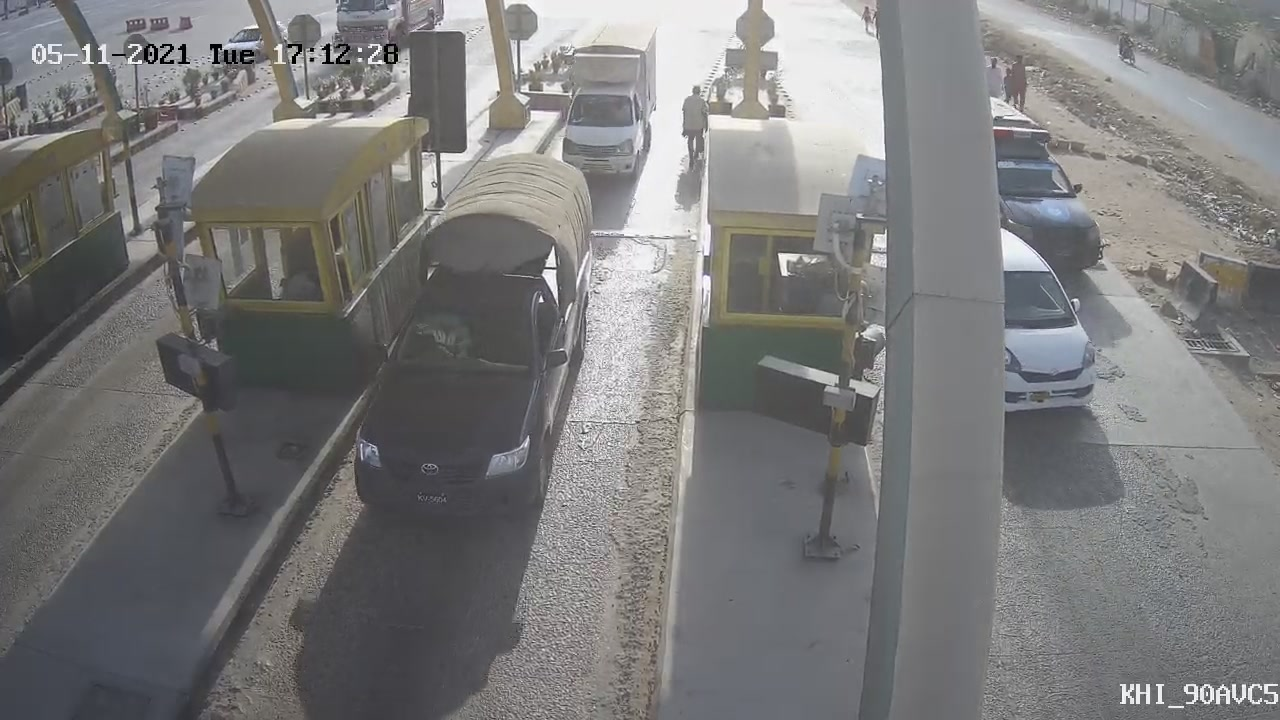F1: (336, 142, 600, 515)
F2: (544, 13, 673, 201)
